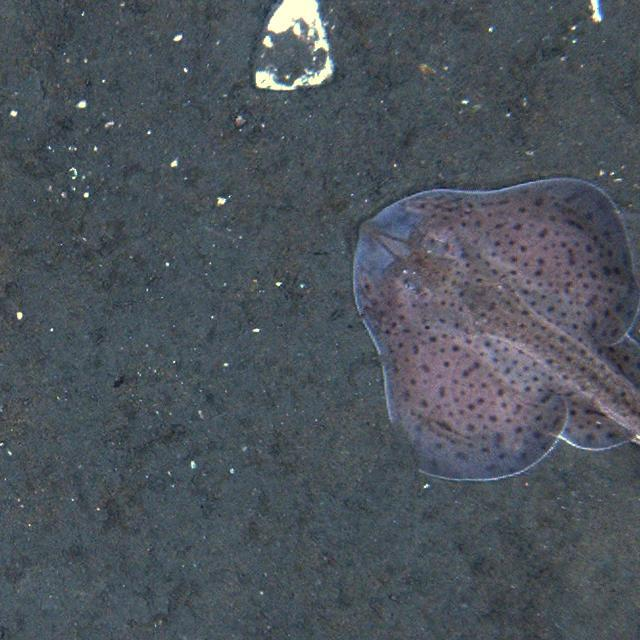skate: (347, 181, 639, 487)
